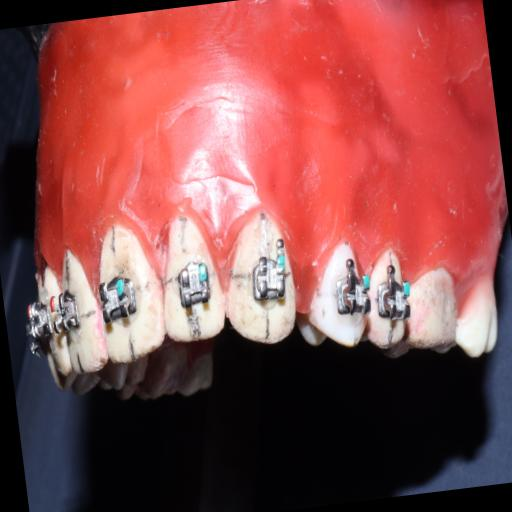incorrect_brace: (152, 206, 229, 346), (249, 252, 290, 309), (176, 256, 214, 312)
